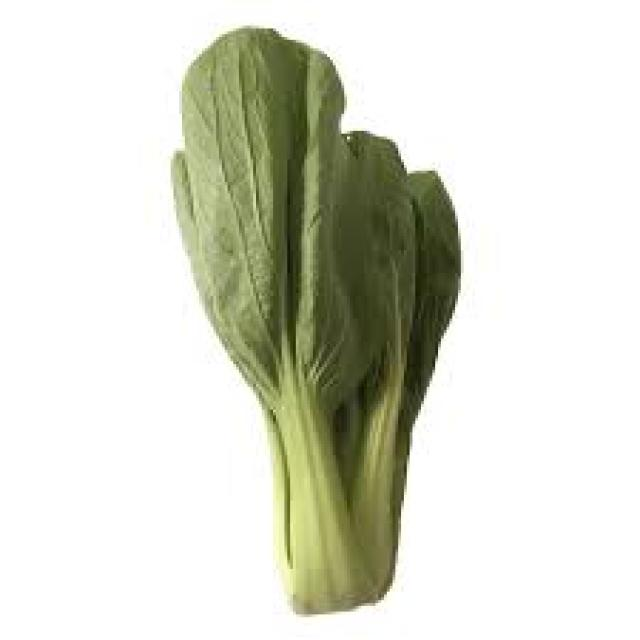collard: (173, 28, 457, 624)
